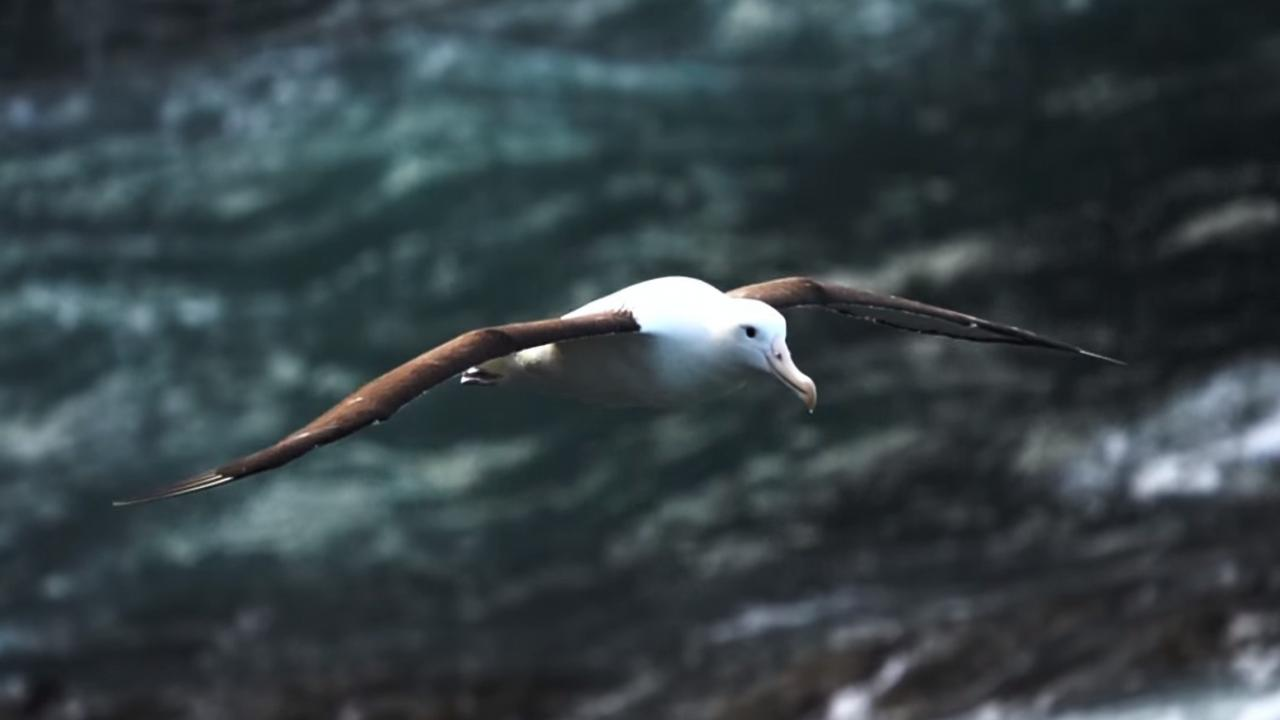Bird: (103, 262, 1140, 520)
